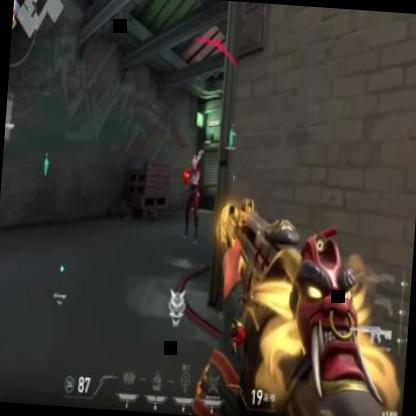enemy: (179, 155, 204, 244)
enemy_head: (190, 157, 197, 170)
